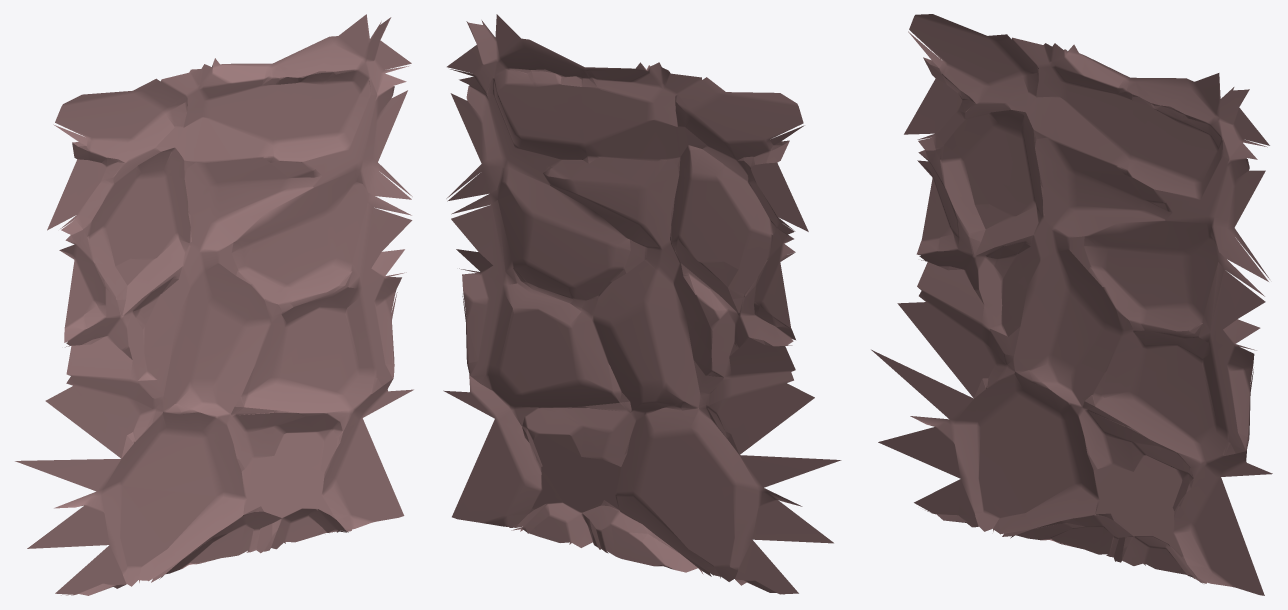
File: plateau.fbx_Rock_Plateau_037LODs.fbx
3 views of the same model, side by side, from view 1: azimuth 30°, elevation 25°; view 2: azimuth 150°, elevation 25°; view 3: azimuth 330°, elevation 25° (orthographic).
Parts seen in each view (by area): view 1: Rock Plateau.037_LOD0; view 2: Rock Plateau.037_LOD0; view 3: Rock Plateau.037_LOD0.
Part boxes in pixels (x1,y1,x2,y2): Rock Plateau.037_LOD0: [15, 14, 413, 595]; Rock Plateau.037_LOD0: [443, 14, 841, 594]; Rock Plateau.037_LOD0: [871, 14, 1272, 595].
Size of what is drawn, in the model's own units: 3323 by 4084 by 96.58.
